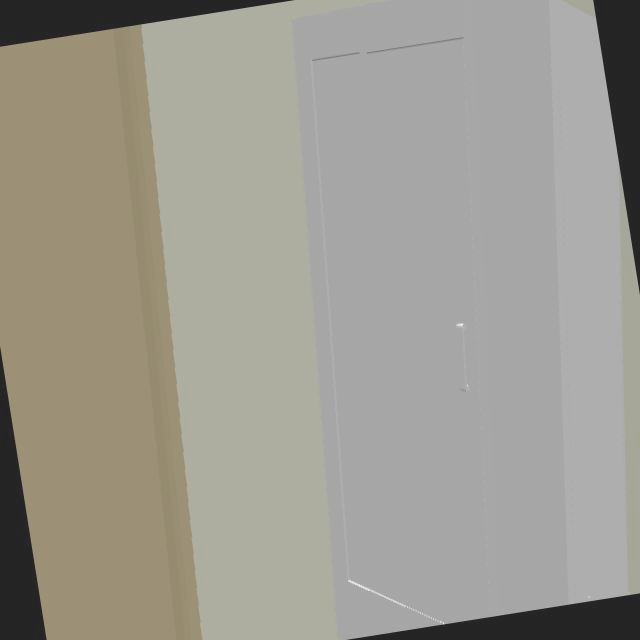shower: (291, 0, 636, 640)
